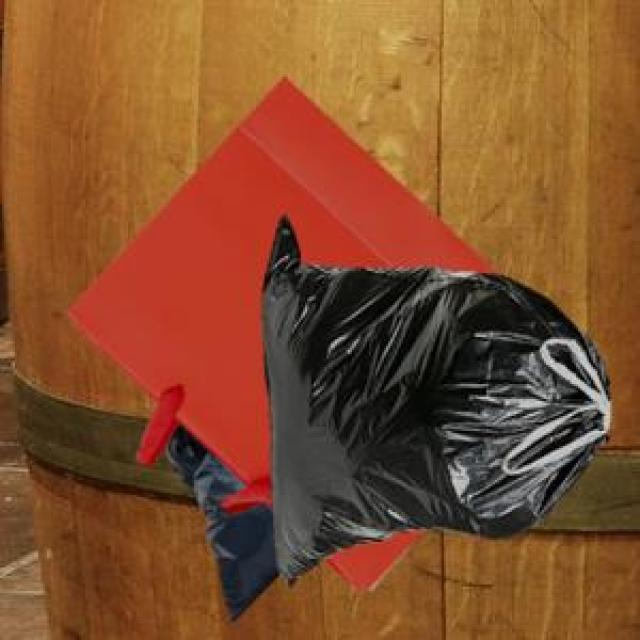miscellaneous trash: (258, 211, 606, 582), (162, 418, 275, 617)
paper: (64, 73, 495, 587)
